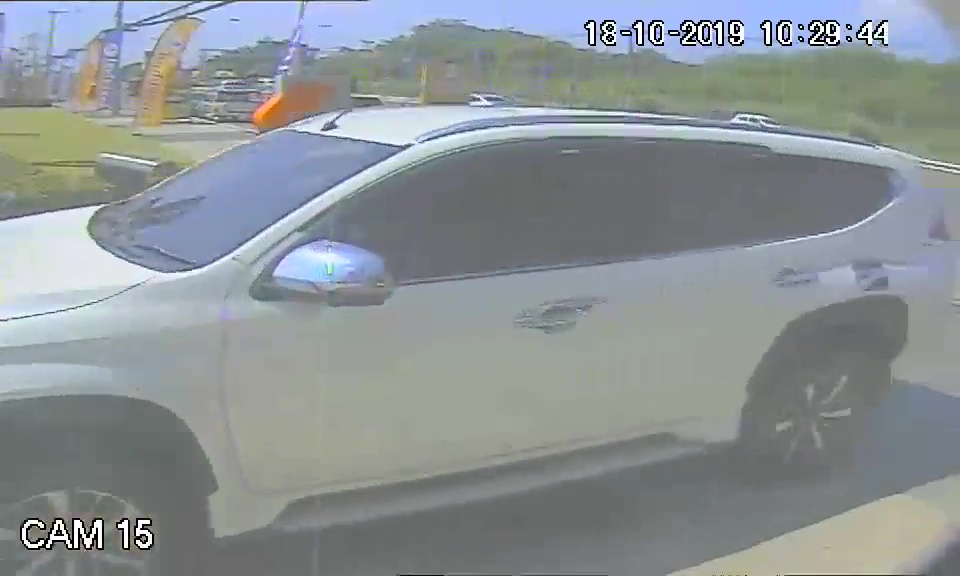pickup: (5, 92, 926, 539)
